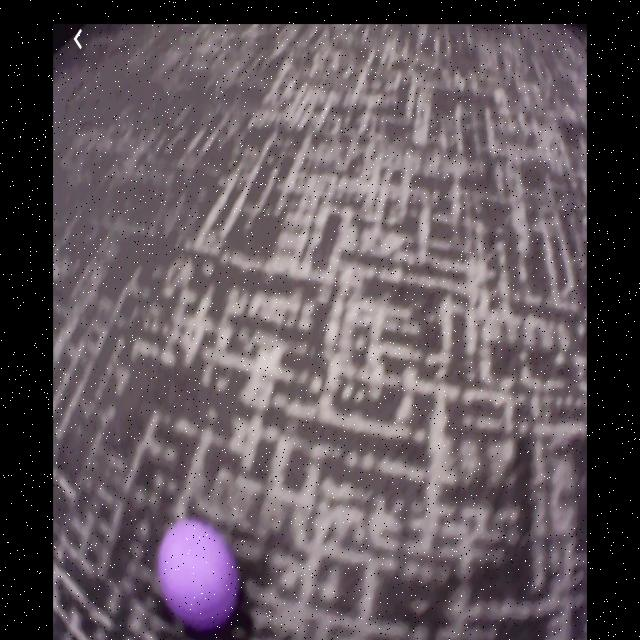ball: (156, 518, 239, 629)
